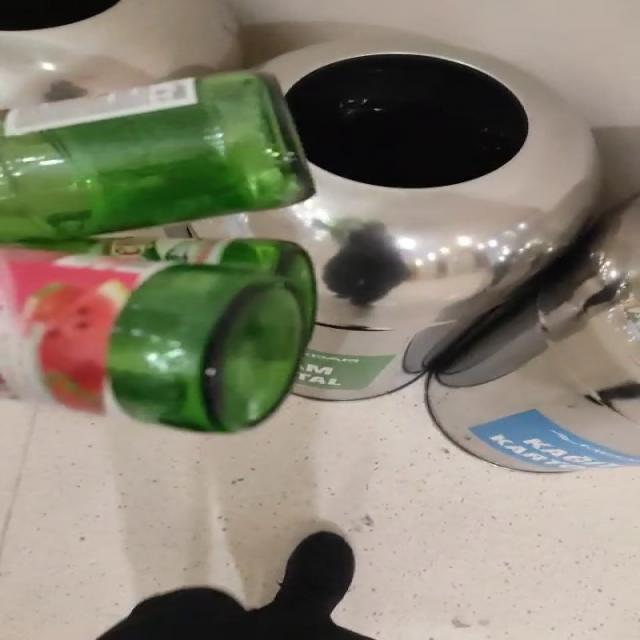glass: (0, 71, 315, 432)
